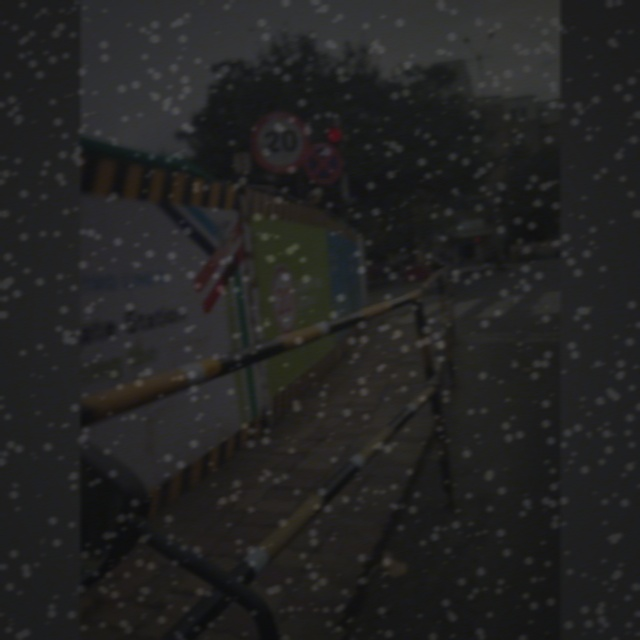Speed_Limit_20: (248, 111, 309, 170)
